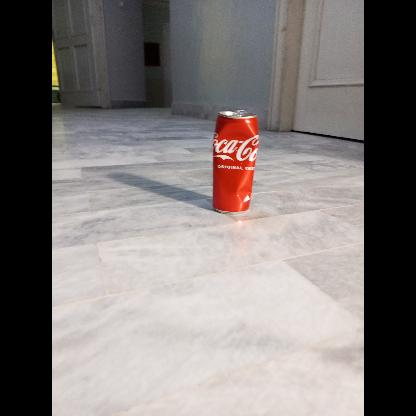Dent_Can: (214, 122, 259, 161), (236, 180, 252, 209)
Lid_Open: (228, 106, 247, 119)
Tin_Can: (208, 106, 260, 214)
